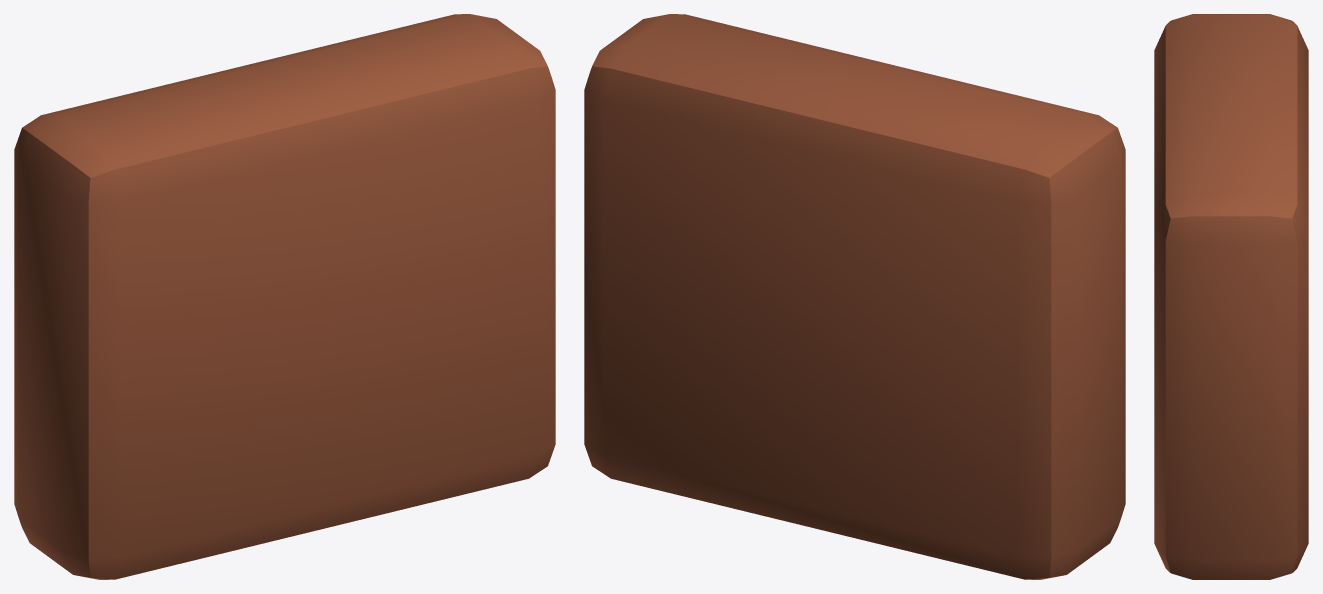
The model's file is kettle_power_switch.glb.
3 views of the same model, side by side, from view 1: azimuth 30°, elevation 25°; view 2: azimuth 150°, elevation 25°; view 3: azimuth 270°, elevation 25° (orthographic). The views are drawn at different scales.
Parts seen in each view (by area): view 1: kettle_power_switch_x; view 2: kettle_power_switch_x; view 3: kettle_power_switch_x.
Boxes of the visible parts, box(x1,y1,x2,y2) form: kettle_power_switch_x: box(14, 14, 555, 579); kettle_power_switch_x: box(584, 14, 1125, 579); kettle_power_switch_x: box(1154, 14, 1308, 579).
Bounding box in the file's own units: 0.026 × 0.022 × 0.008.
